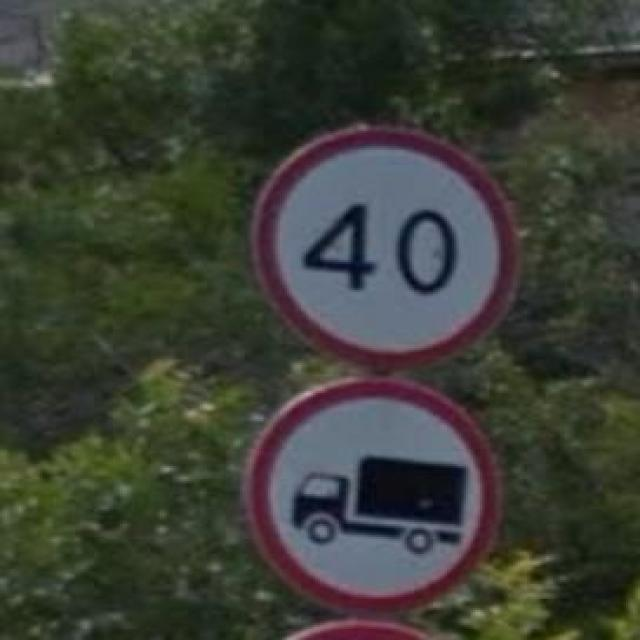traffic_sign: (249, 124, 525, 368), (240, 374, 506, 622)
